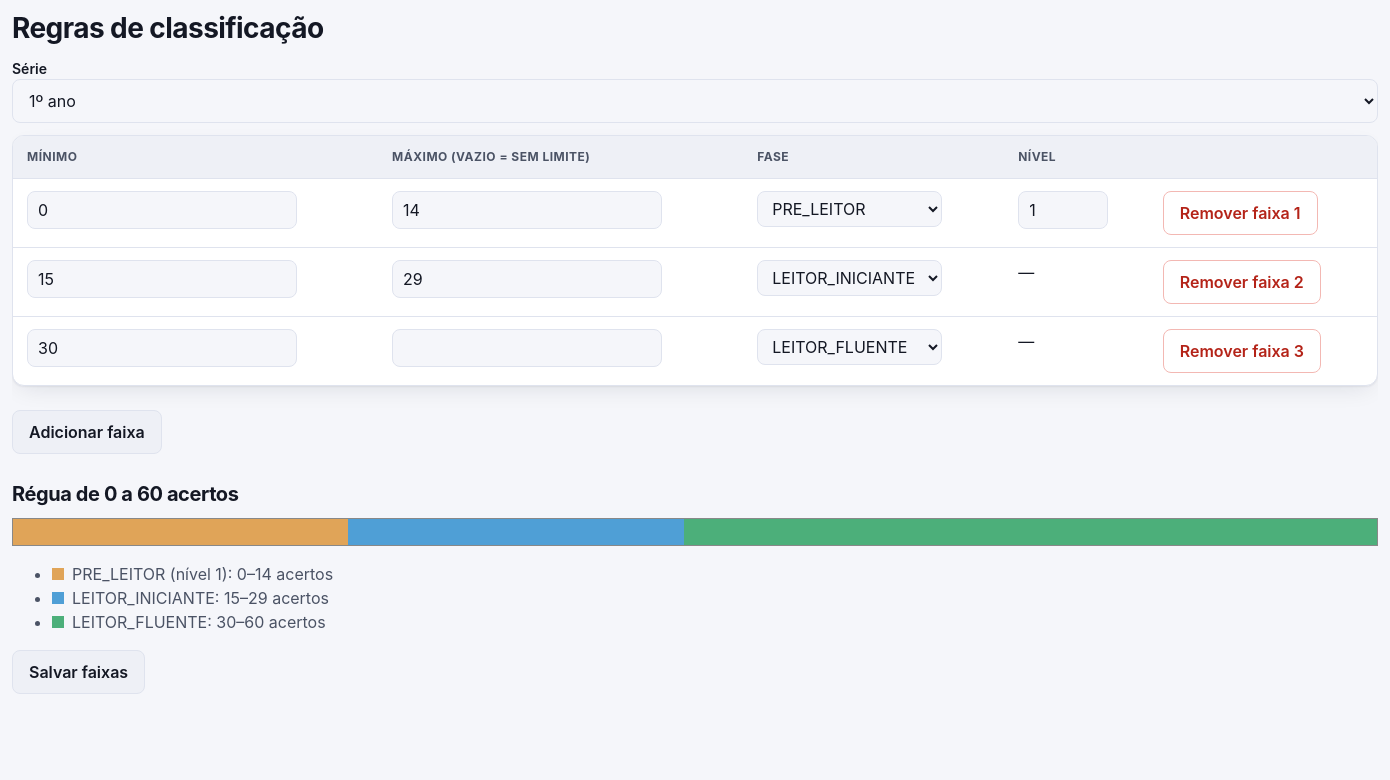
Scenario: RegrasClassificacaoPage › highlights a gap before sending when a faixa leaves acertos uncovered
The image size is (1390, 780).
Step 1. Replace the text in the number field named "Mínimo da faixa 2" with "20" → (162, 279), box [27,260,297,298]
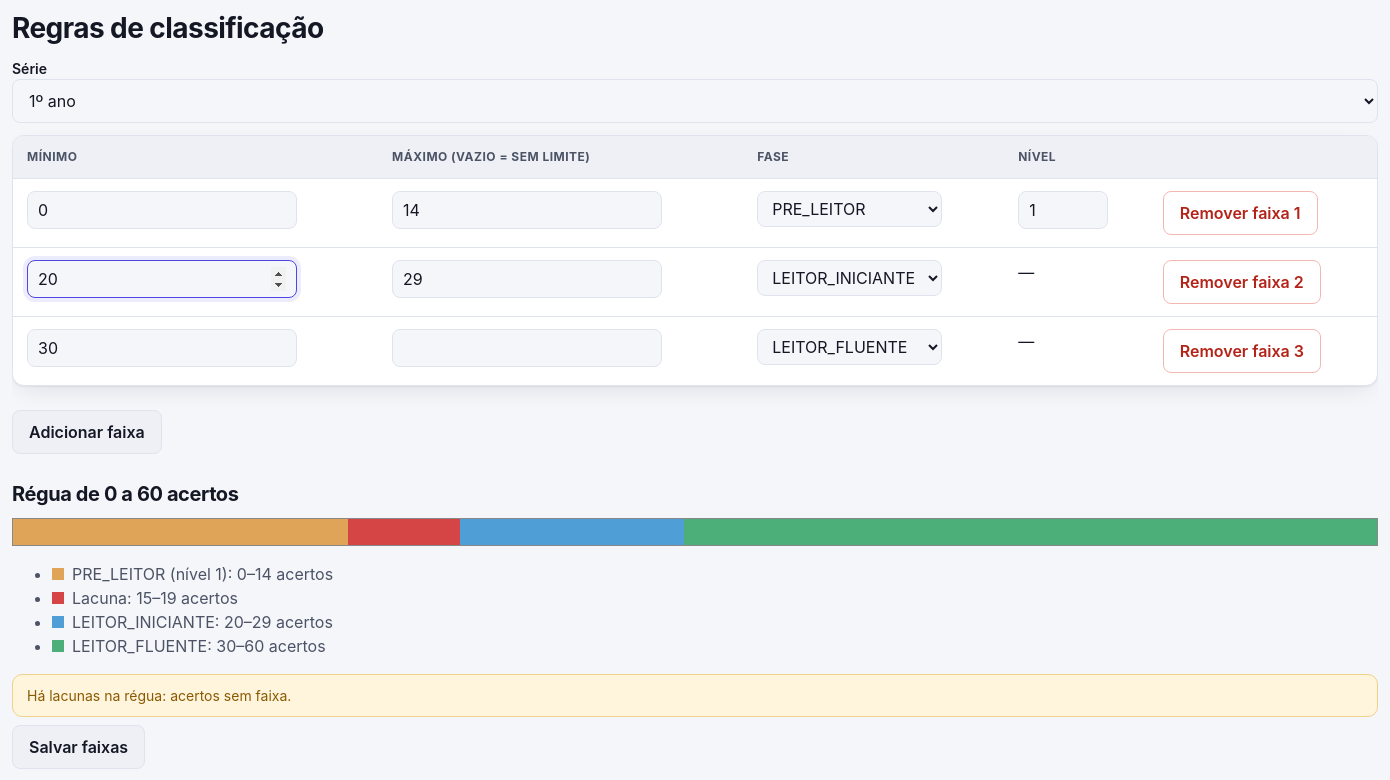
Result: the list item "Lacuna: 15–19 acertos" is shown at [52,588,238,608]
Result: the text "Há lacunas na régua: acertos sem faixa." is shown at [12,674,1378,717]
